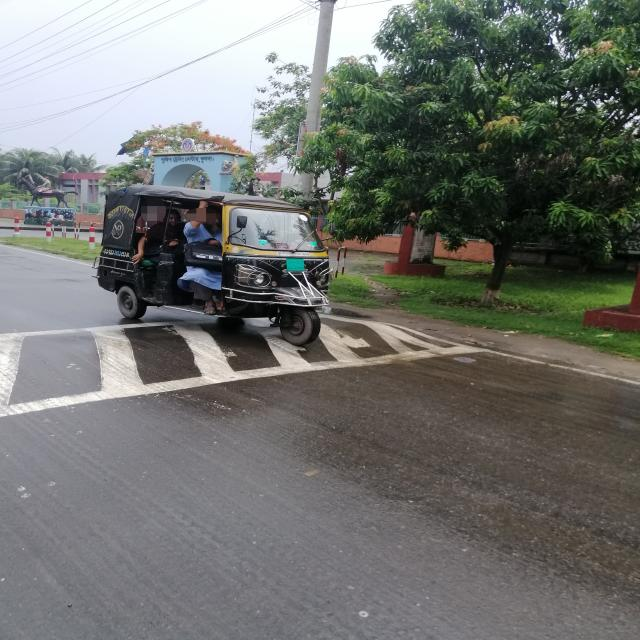CNG: (73, 172, 362, 360)
